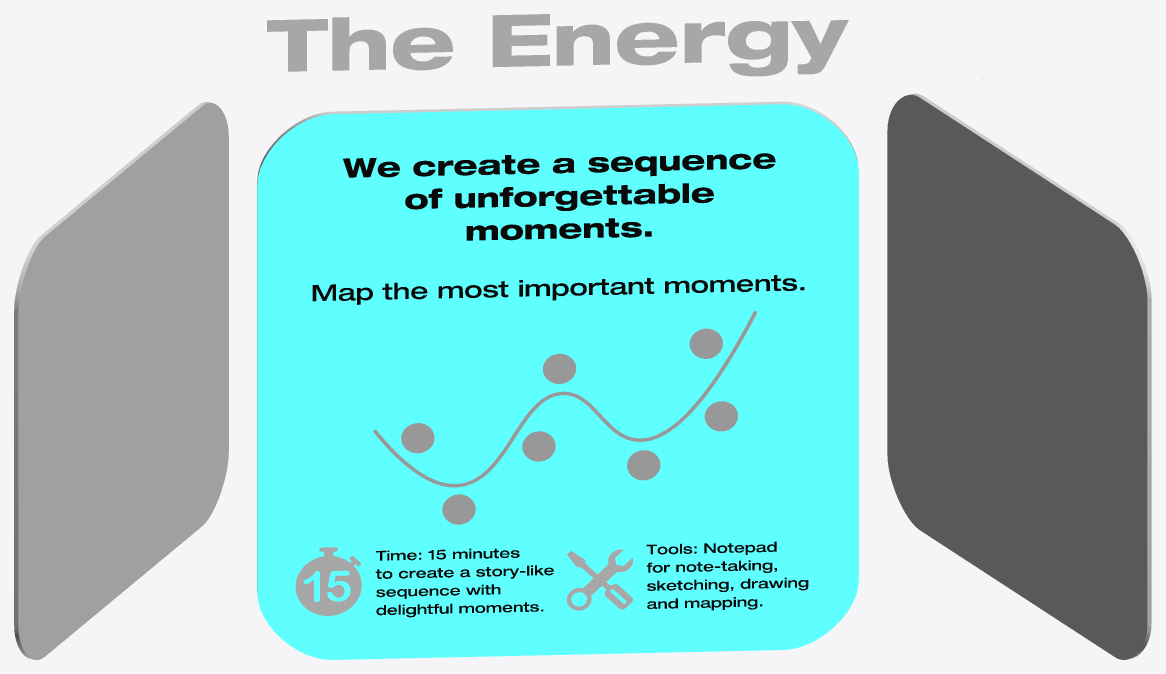
The picture shows the model from 3 angles, left to right: view 1: azimuth 30°, elevation 25°; view 2: azimuth 150°, elevation 25°; view 3: azimuth 270°, elevation 25°; orthographic projection. The views are drawn at different scales.
Visible parts, largest first — view 1: Rectangle.004; view 2: Rectangle.004, Text.015, Text.016, Text.017, xx.006; view 3: Rectangle.004.
Part boxes in pixels (<box>): Rectangle.004: <box>14,102,228,659</box>; Rectangle.004: <box>257,101,858,659</box>; Text.015: <box>267,14,848,76</box>; Text.016: <box>343,153,775,240</box>; Text.017: <box>312,275,808,617</box>; xx.006: <box>295,547,632,615</box>; Rectangle.004: <box>887,93,1151,659</box>.
Size of the model in its own units: 4.98 by 6.94 by 3.27.
